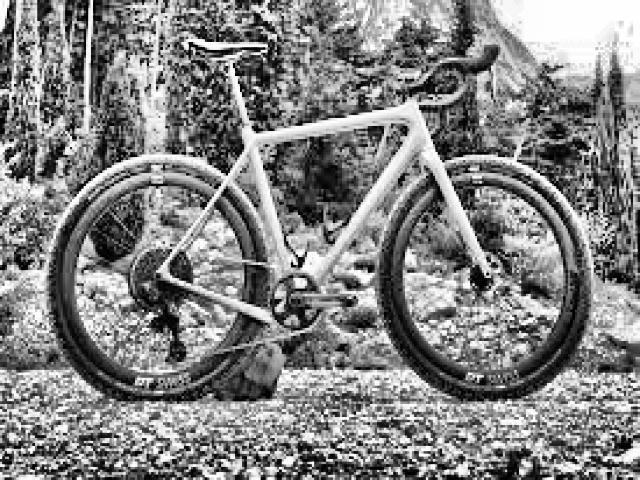cassette: (127, 244, 195, 311)
cranks_set: (266, 268, 359, 335)
pedal: (339, 288, 360, 309)
rear_derailleur: (138, 280, 190, 363)
saddle: (178, 34, 271, 64)
sti_shifter: (482, 40, 502, 103)
wheel: (45, 153, 273, 404), (372, 154, 598, 402)
